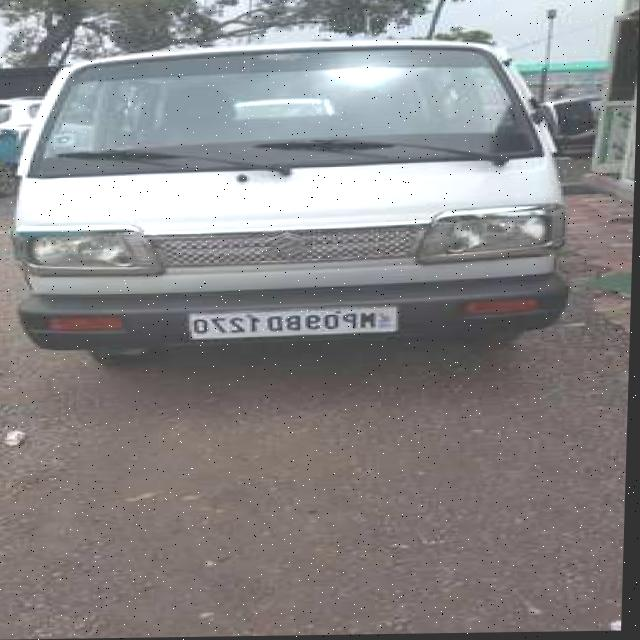plate: (186, 304, 407, 343)
